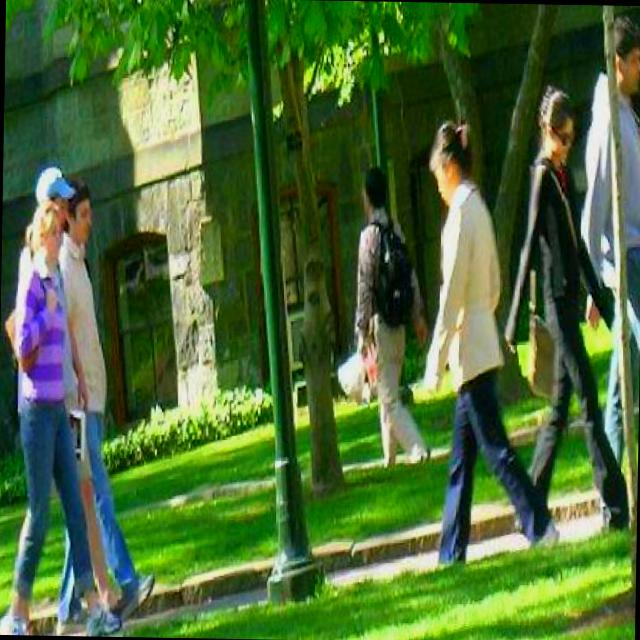Person: (422, 114, 559, 572), (501, 86, 633, 544), (0, 170, 98, 635), (58, 185, 159, 614), (571, 23, 640, 504), (348, 161, 430, 475)
